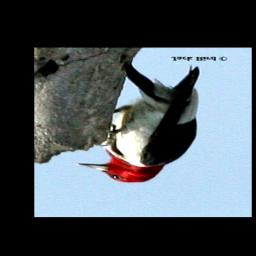Woodpecker: (74, 63, 203, 184)
